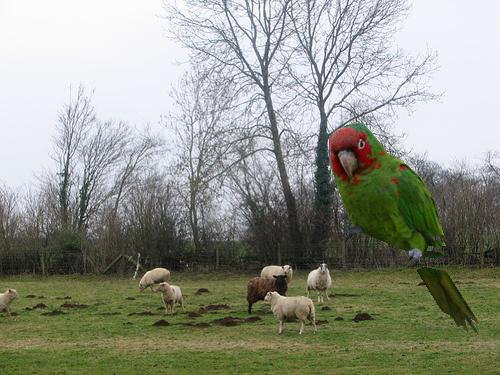tampered: (330, 123, 480, 336)
